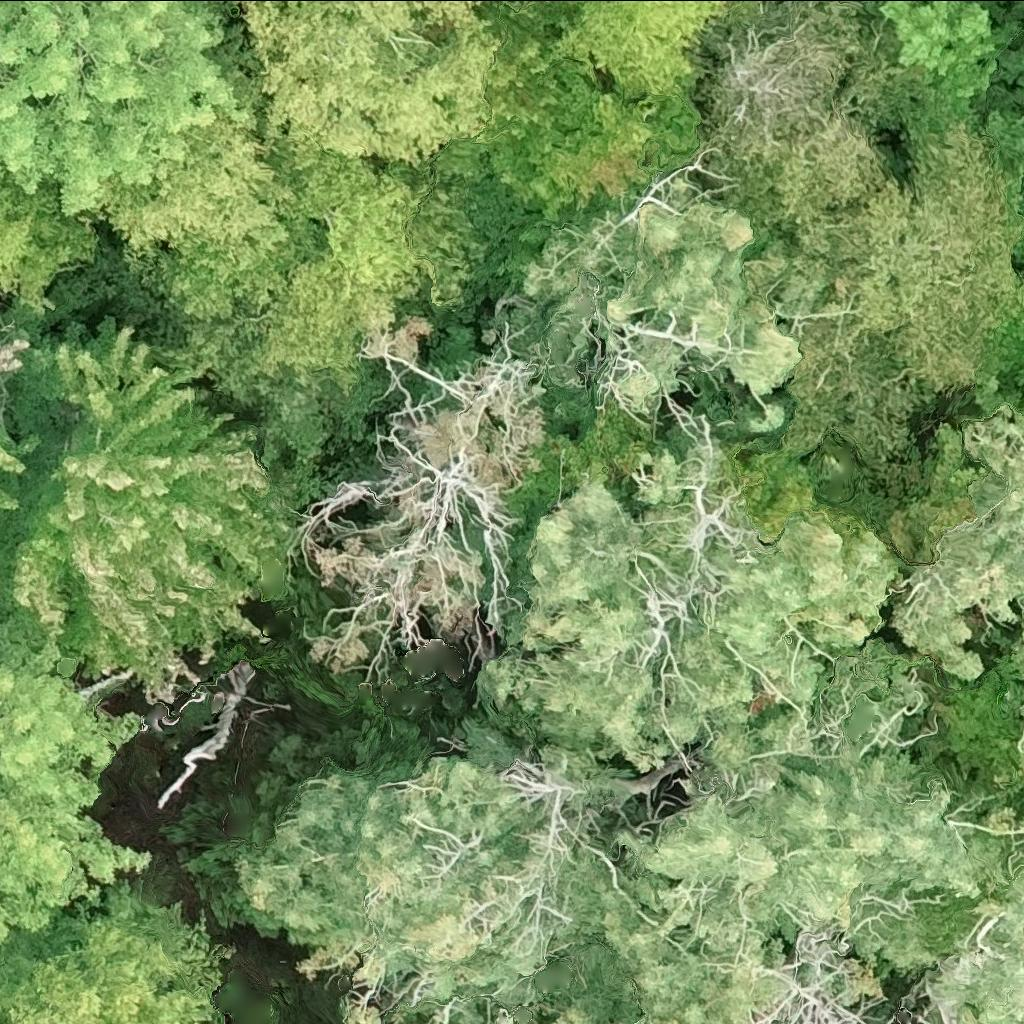crown: (477, 437, 896, 786), (241, 719, 648, 1023), (12, 315, 289, 689), (287, 319, 543, 672), (772, 114, 1022, 462), (182, 176, 480, 449), (483, 180, 802, 435), (616, 754, 976, 957), (112, 71, 376, 322), (0, 0, 241, 223), (428, 33, 702, 211), (251, 0, 499, 175), (0, 652, 147, 939), (904, 408, 1023, 682), (0, 881, 227, 1023), (597, 868, 801, 1023), (554, 0, 726, 99), (922, 861, 1023, 1023), (0, 174, 95, 300), (998, 321, 1023, 418), (1018, 665, 1023, 760), (0, 453, 21, 473), (0, 487, 9, 500), (1023, 638, 1023, 639)
